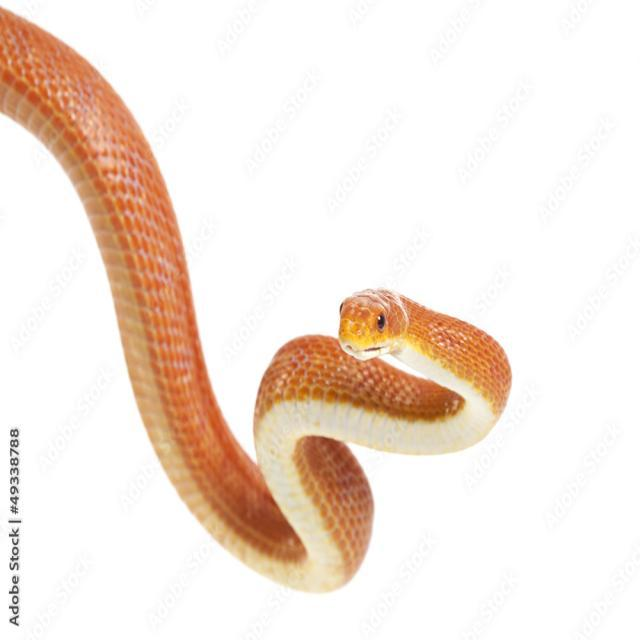Snake: (0, 0, 534, 601)
